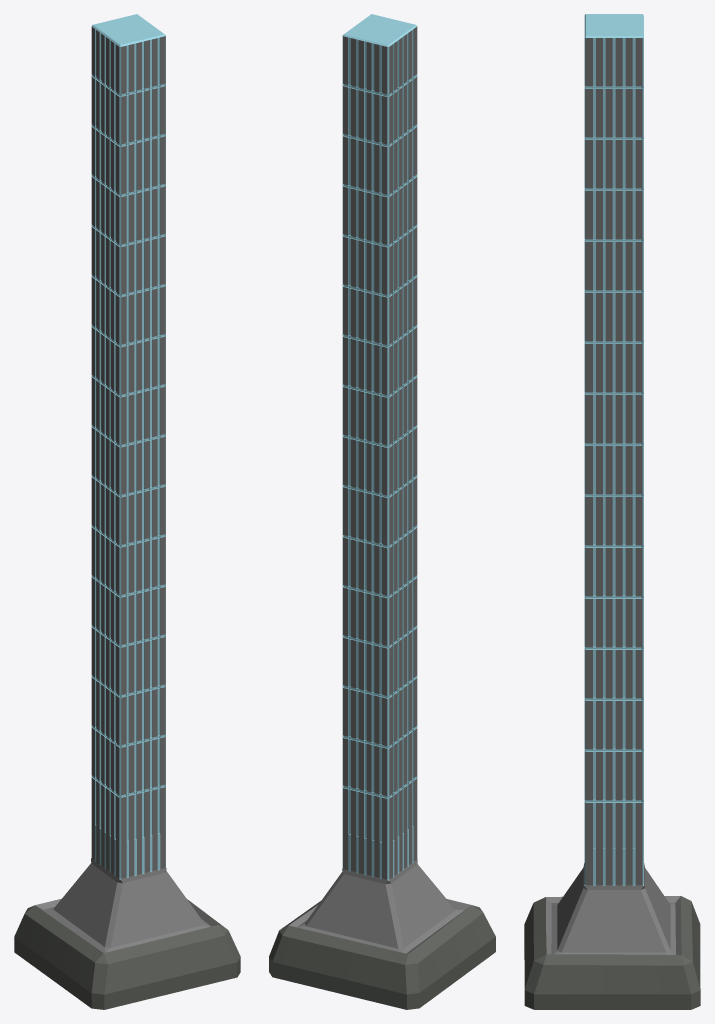
Rendered from column.fbx.
3 renders of one model, left to right at view 1: azimuth 30°, elevation 25°; view 2: azimuth 150°, elevation 25°; view 3: azimuth 270°, elevation 25°, orthographic.
Parts seen in each view (by area): view 1: Cube.221; view 2: Cube.221; view 3: Cube.221.
Boxes of the visible parts, x1=… form: Cube.221: x1=14, y1=14, x2=240, y2=1009; Cube.221: x1=269, y1=14, x2=495, y2=1009; Cube.221: x1=524, y1=14, x2=700, y2=1009.
Bounding box in the file's own units: 392 × 2324 × 391.
